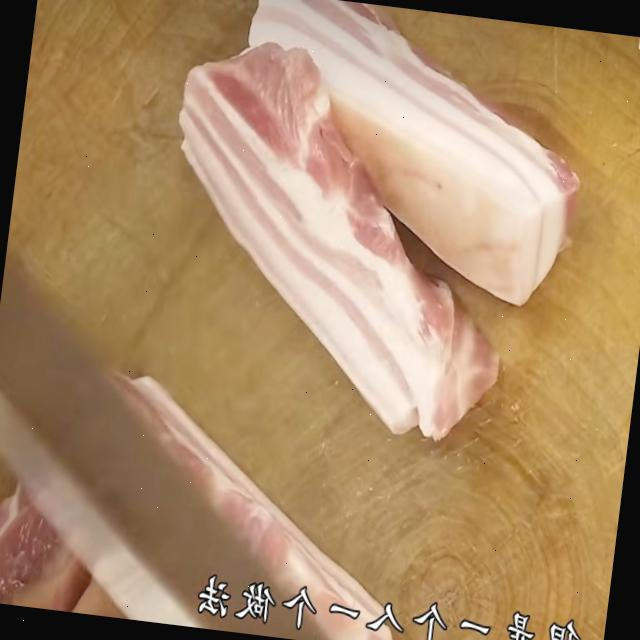meat: (136, 19, 535, 447), (232, 0, 623, 297)
